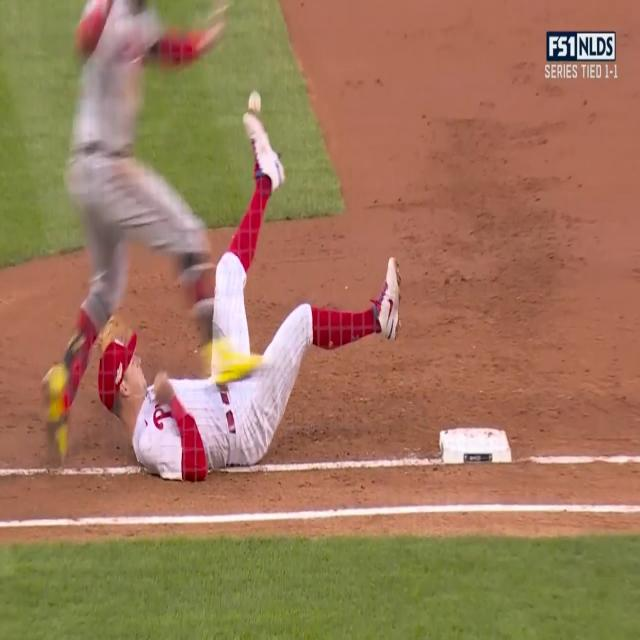baseball: (247, 88, 262, 115)
